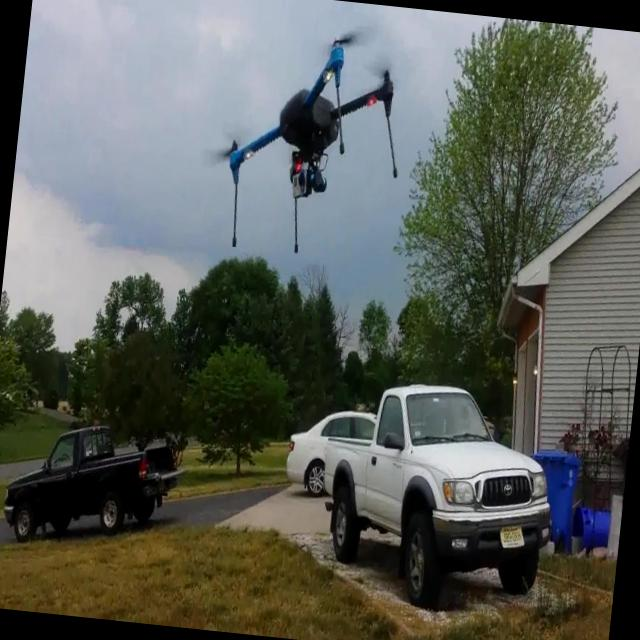drone: (215, 22, 412, 266)
